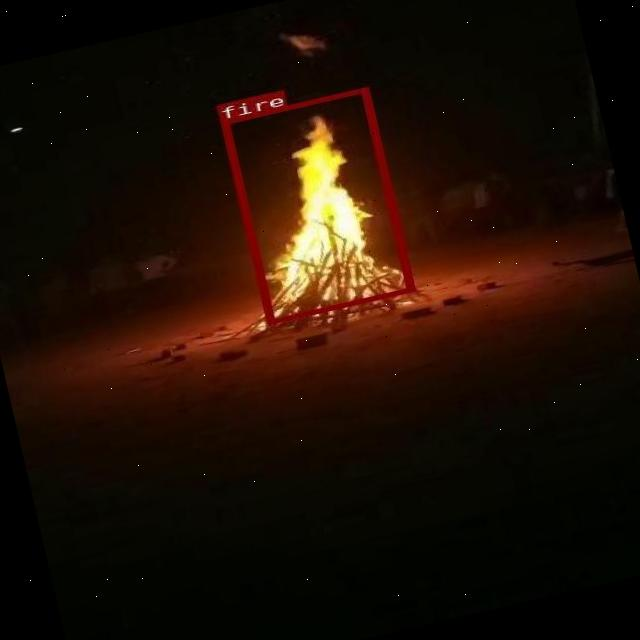fire: (218, 86, 412, 324)
